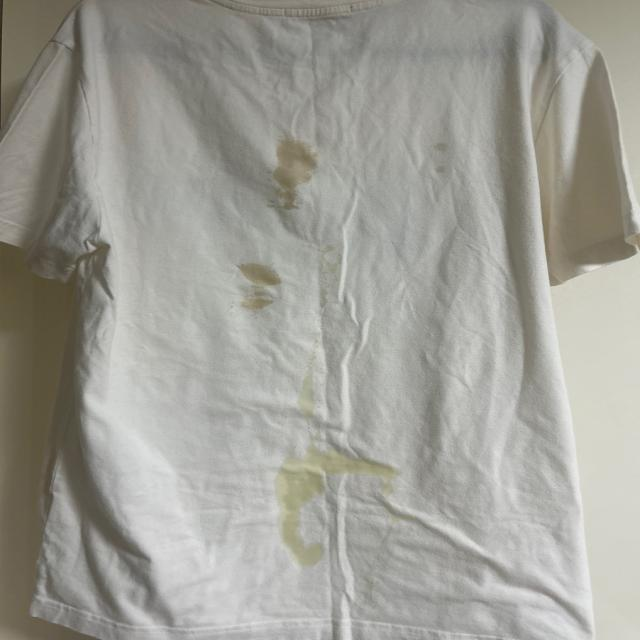stain: (280, 487, 340, 576), (268, 448, 396, 488), (272, 135, 316, 207), (237, 261, 292, 318), (289, 354, 335, 422), (420, 124, 460, 188)
